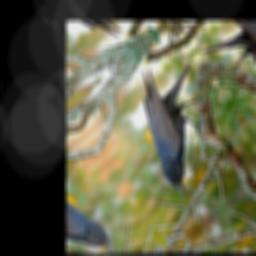Crow: (108, 41, 247, 198)
